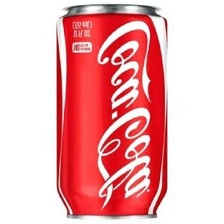can: (52, 3, 170, 224)
